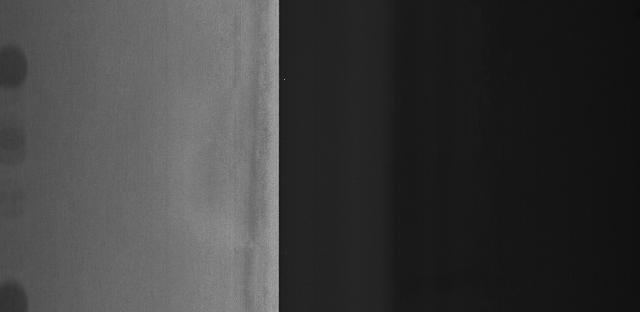oil_spot: (0, 118, 35, 228), (0, 39, 38, 94), (0, 257, 31, 311)
